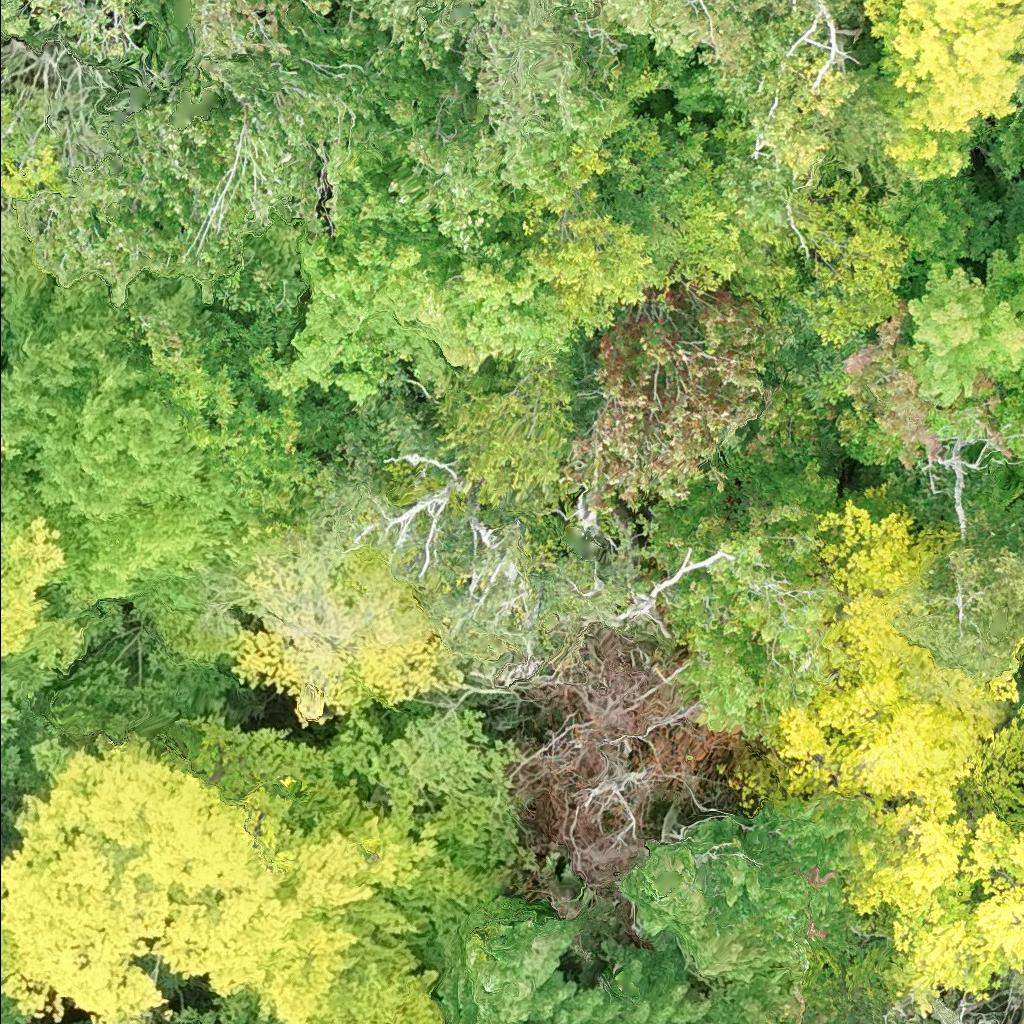crown: (0, 698, 540, 1023), (14, 1, 470, 303), (759, 497, 1023, 831), (520, 51, 799, 342), (0, 307, 258, 600), (353, 0, 790, 168), (556, 281, 786, 514), (624, 792, 890, 982), (228, 527, 472, 729), (251, 225, 493, 403), (436, 913, 806, 1023), (135, 311, 325, 515), (845, 804, 1023, 1019), (859, 0, 1023, 183), (838, 294, 1010, 468), (897, 496, 1023, 681), (792, 168, 907, 350), (899, 249, 1023, 405), (456, 256, 571, 365), (893, 171, 1004, 280), (0, 510, 66, 654), (0, 648, 61, 788), (195, 0, 329, 57), (0, 0, 135, 56), (994, 363, 1023, 461), (0, 458, 40, 519), (1007, 224, 1023, 314), (0, 991, 33, 1023), (0, 435, 31, 464), (1013, 78, 1023, 112), (1009, 51, 1023, 63), (0, 934, 5, 957), (1018, 677, 1023, 699), (0, 338, 3, 355)
